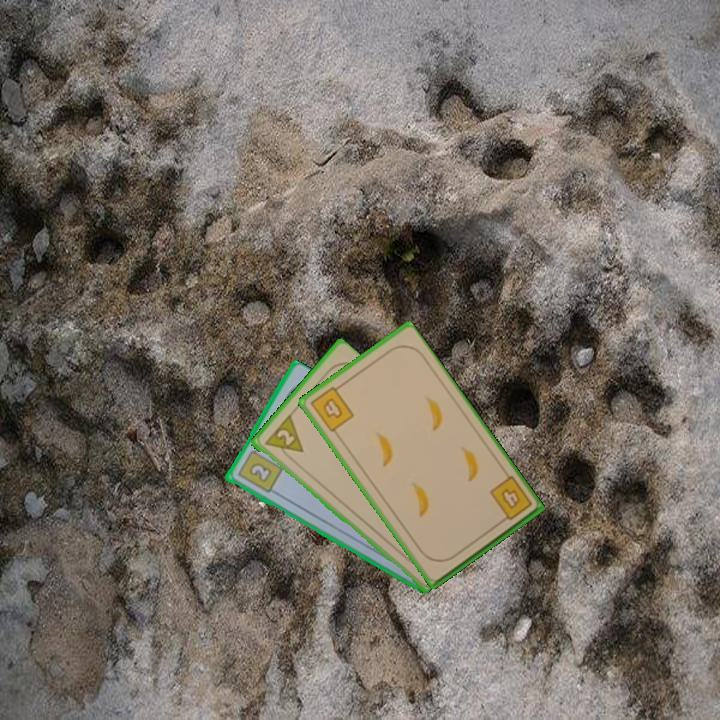2b: (234, 442, 285, 496)
2p: (260, 412, 306, 464)
4b: (306, 381, 357, 435), (486, 473, 535, 527)
